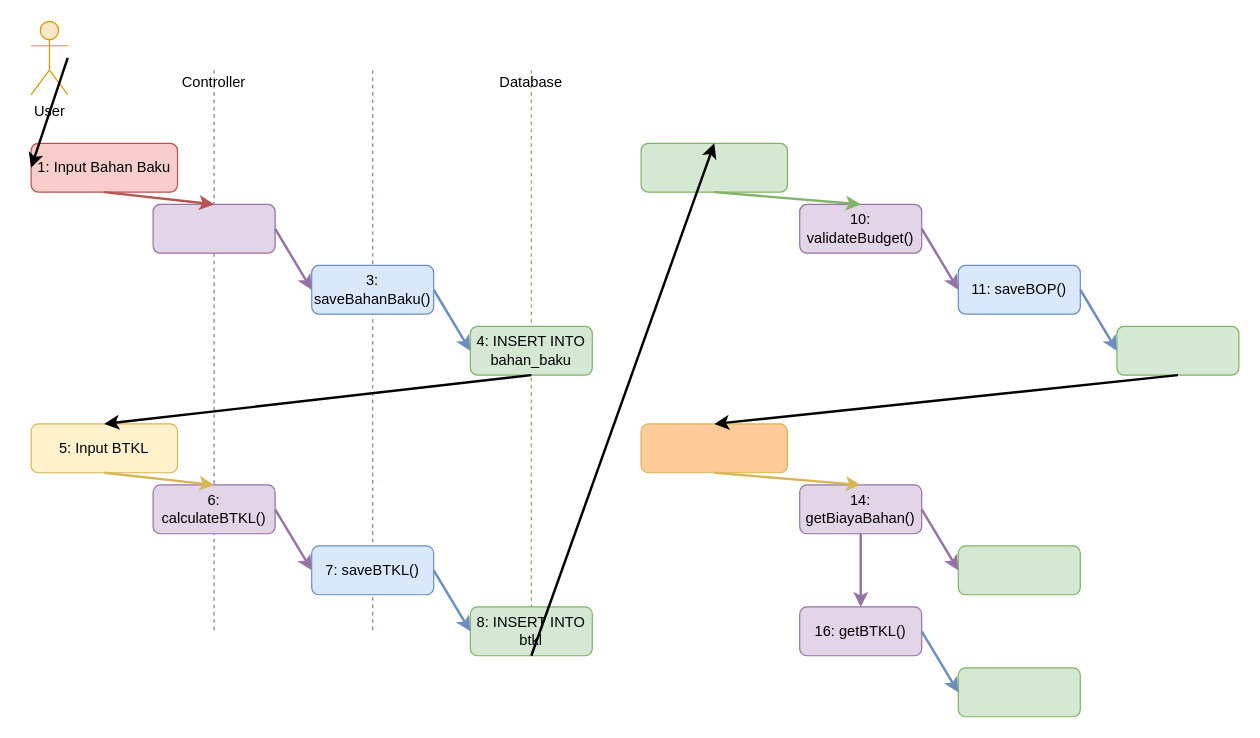
The diagram is 1260 pixels wide and 738 high, and some of its shapes have lost their labels. Each missing label, with the box of its shape:
12: INSERT INTO bop: (1116, 325, 1239, 375)
13: Calculate HPP: (640, 423, 788, 473)
15: SELECT FROM bahan_baku: (957, 545, 1080, 595)
17: SELECT FROM btkl: (957, 667, 1080, 717)
2: validateInput(): (152, 203, 275, 253)
9: Input BOP: (640, 142, 788, 192)
Model: (310, 20, 434, 631)
